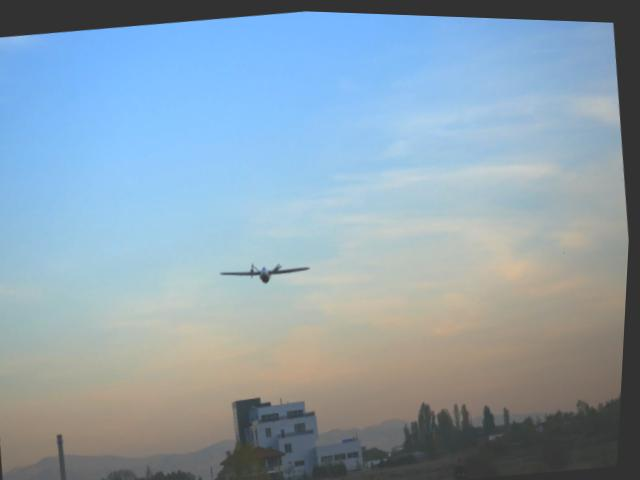plane: (221, 252, 313, 290)
